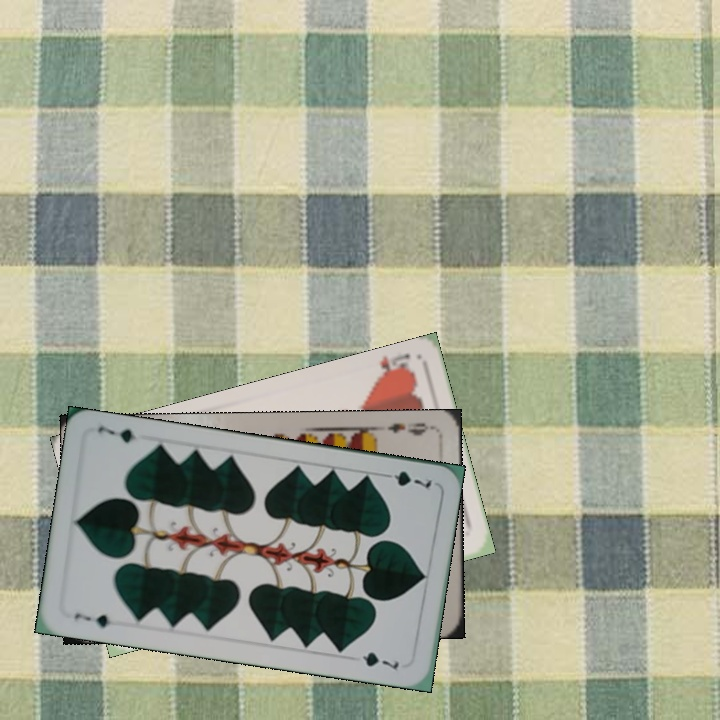E9: (383, 419, 435, 438)
G7: (377, 467, 434, 491), (70, 609, 121, 630)
HO: (368, 349, 417, 384)
